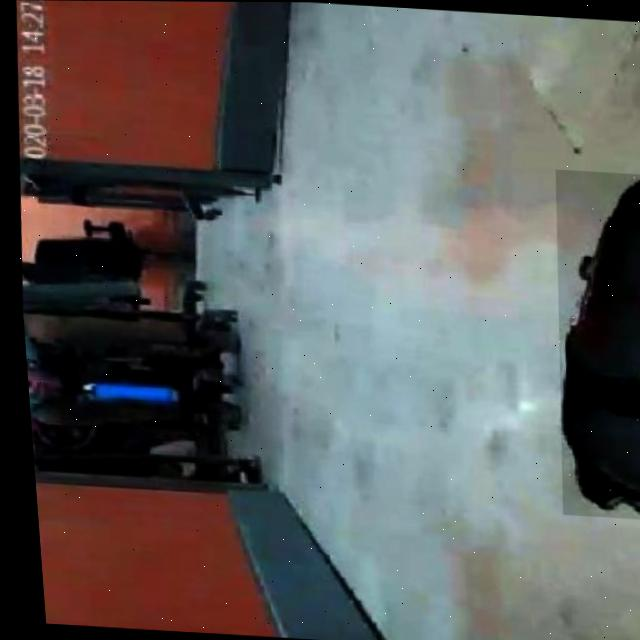spillage: (555, 176, 640, 514)
